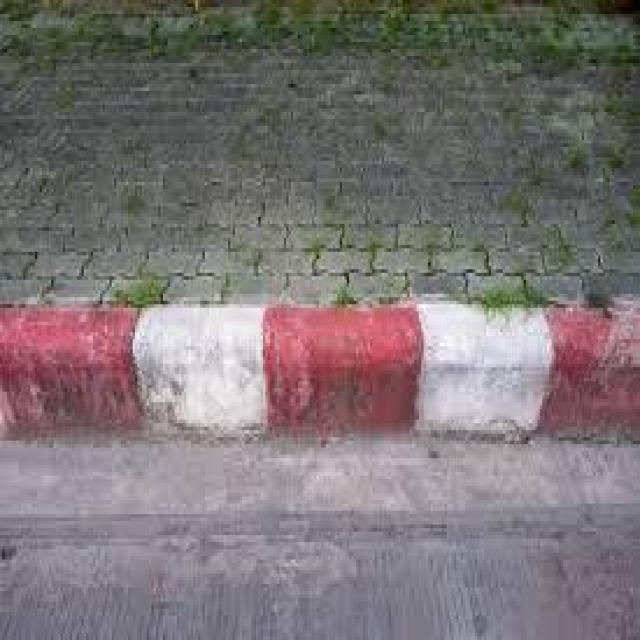curb: (1, 310, 640, 447)
